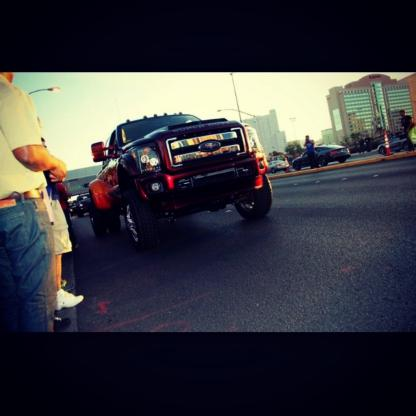Car: (85, 114, 273, 253), (294, 145, 350, 169), (376, 136, 411, 159)
Truck: (81, 102, 281, 254)
